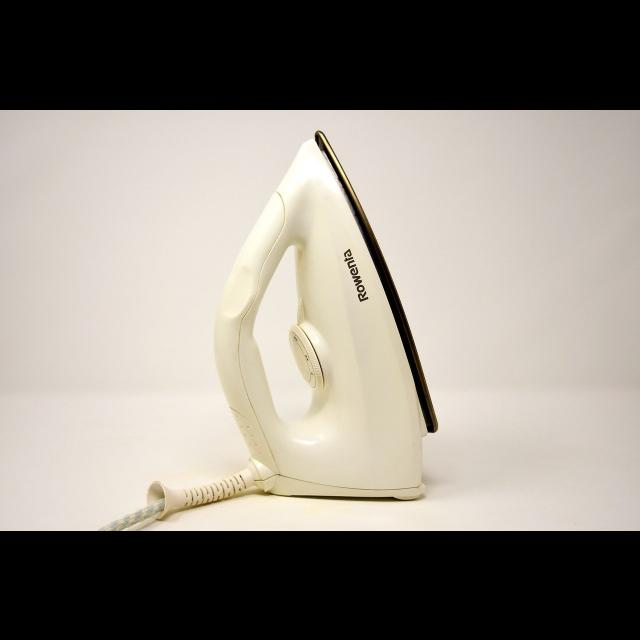Clothes-Iron: (181, 163, 551, 449), (214, 182, 444, 442)
